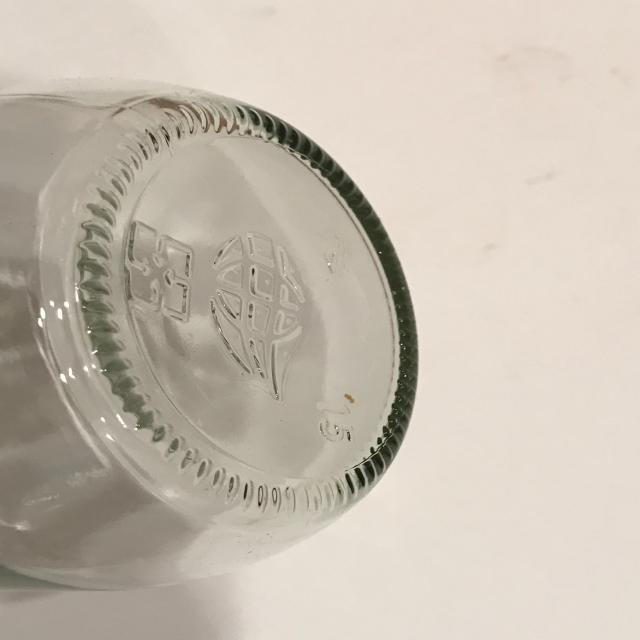glass: (1, 75, 424, 619)
